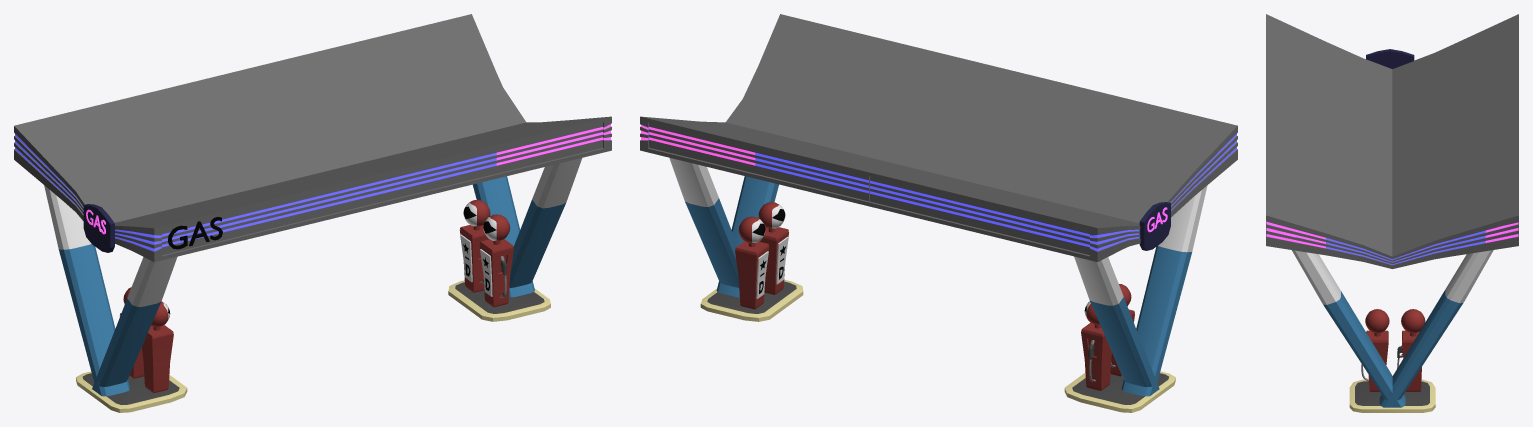
The model's file is gasolinera 1.fbx.
3 renders of one model, left to right at view 1: azimuth 30°, elevation 25°; view 2: azimuth 150°, elevation 25°; view 3: azimuth 270°, elevation 25°, orthographic. The views are drawn at different scales.
Visible parts, largest first — view 1: Cube.004; view 2: Cube.004; view 3: Cube.004.
Part boxes in pixels (x1=…): Cube.004: x1=14, y1=14, x2=611, y2=412; Cube.004: x1=640, y1=14, x2=1237, y2=412; Cube.004: x1=1266, y1=14, x2=1518, y2=412.
Size of the model in its own units: 1332 by 621 by 706.
